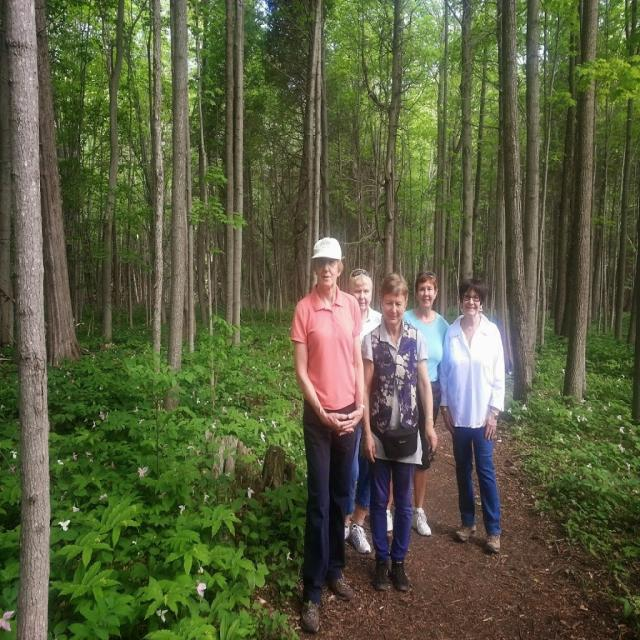body: (287, 233, 365, 637), (358, 269, 438, 594), (436, 276, 506, 556), (385, 269, 451, 538), (341, 266, 383, 556)
